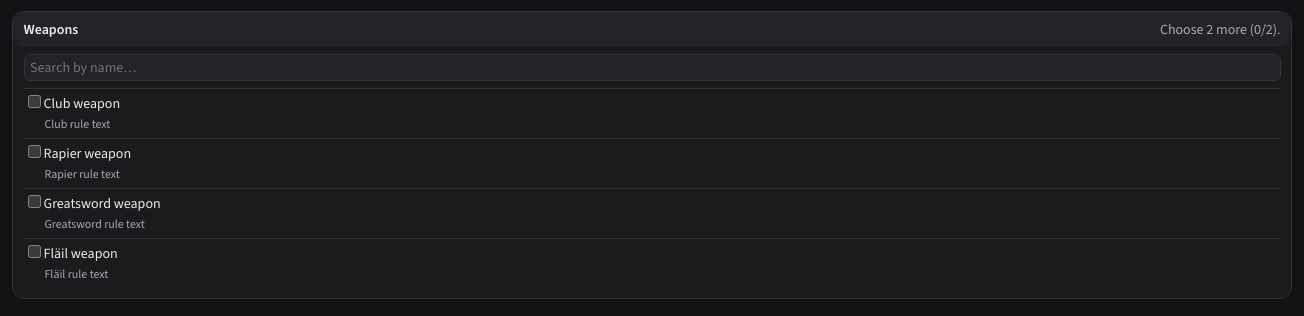
Test: SearchableOptionList › collapsing hides the options from the page
Expected: the checkbox labelled "Club weapon" is shown, [28,95,40,108]
Click the button "Weapons Choose 2 more (0/2)." at coordinates (51, 29), box [13,12,1291,46]
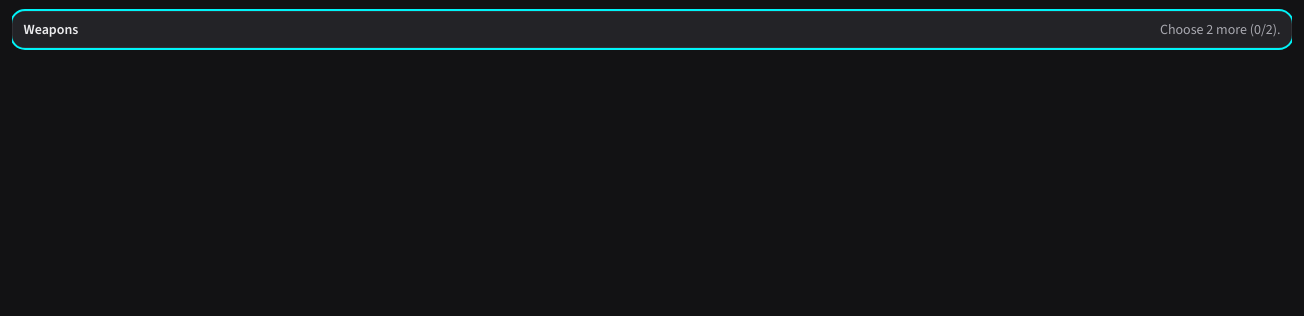
Expected: the text "Club" is gone
